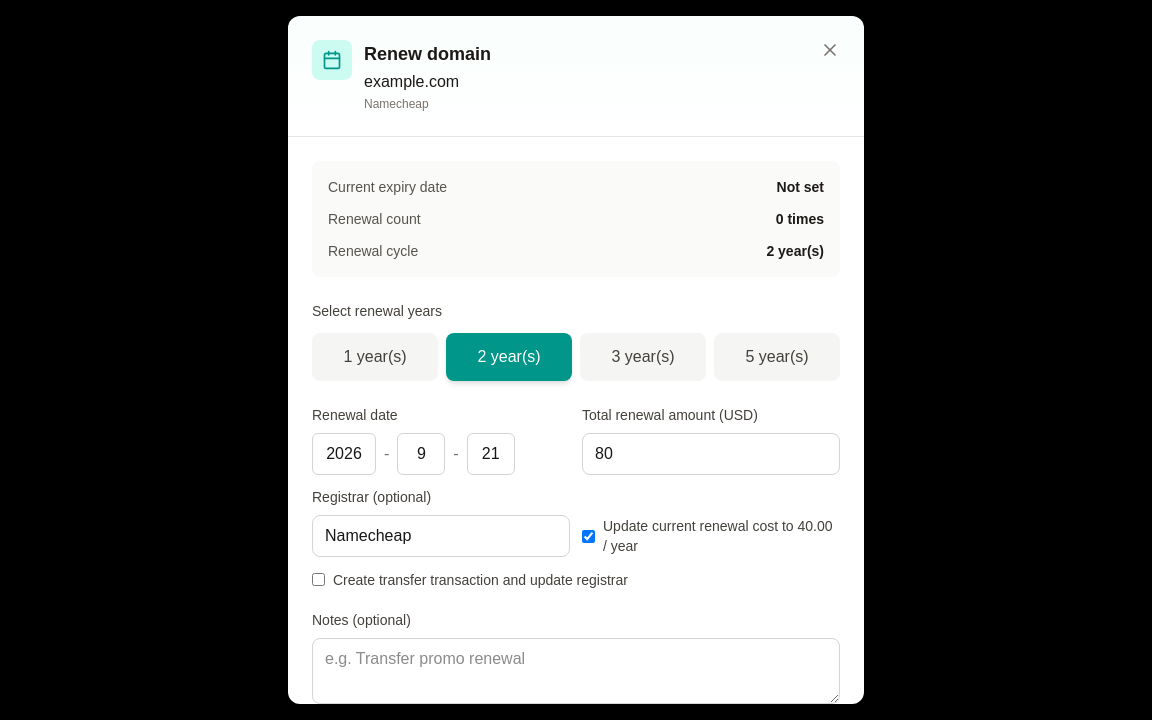
Test: RenewalModal › 切到只续 1 年时，金额按每年价折半
Click the button "1 year(s)" at [375, 357], box [312,333,438,381]
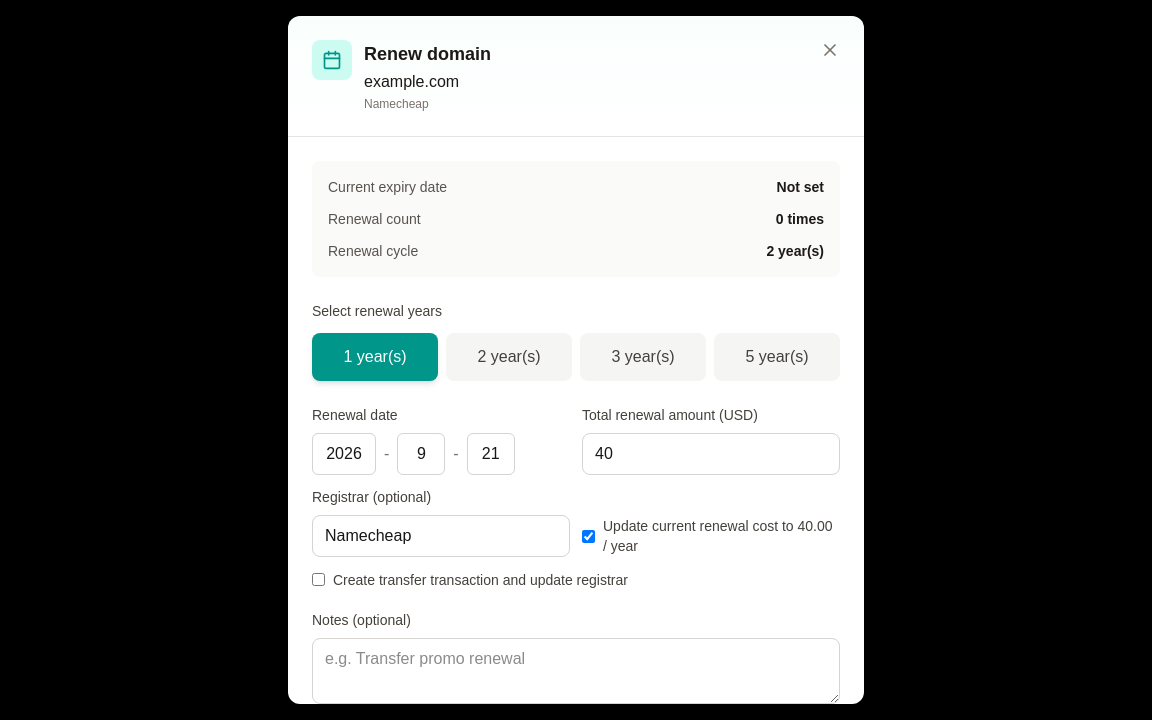
Expected: the field with placeholder "0.00" below "Total renewal amount (USD)" holds "40", [582,433,840,475]
